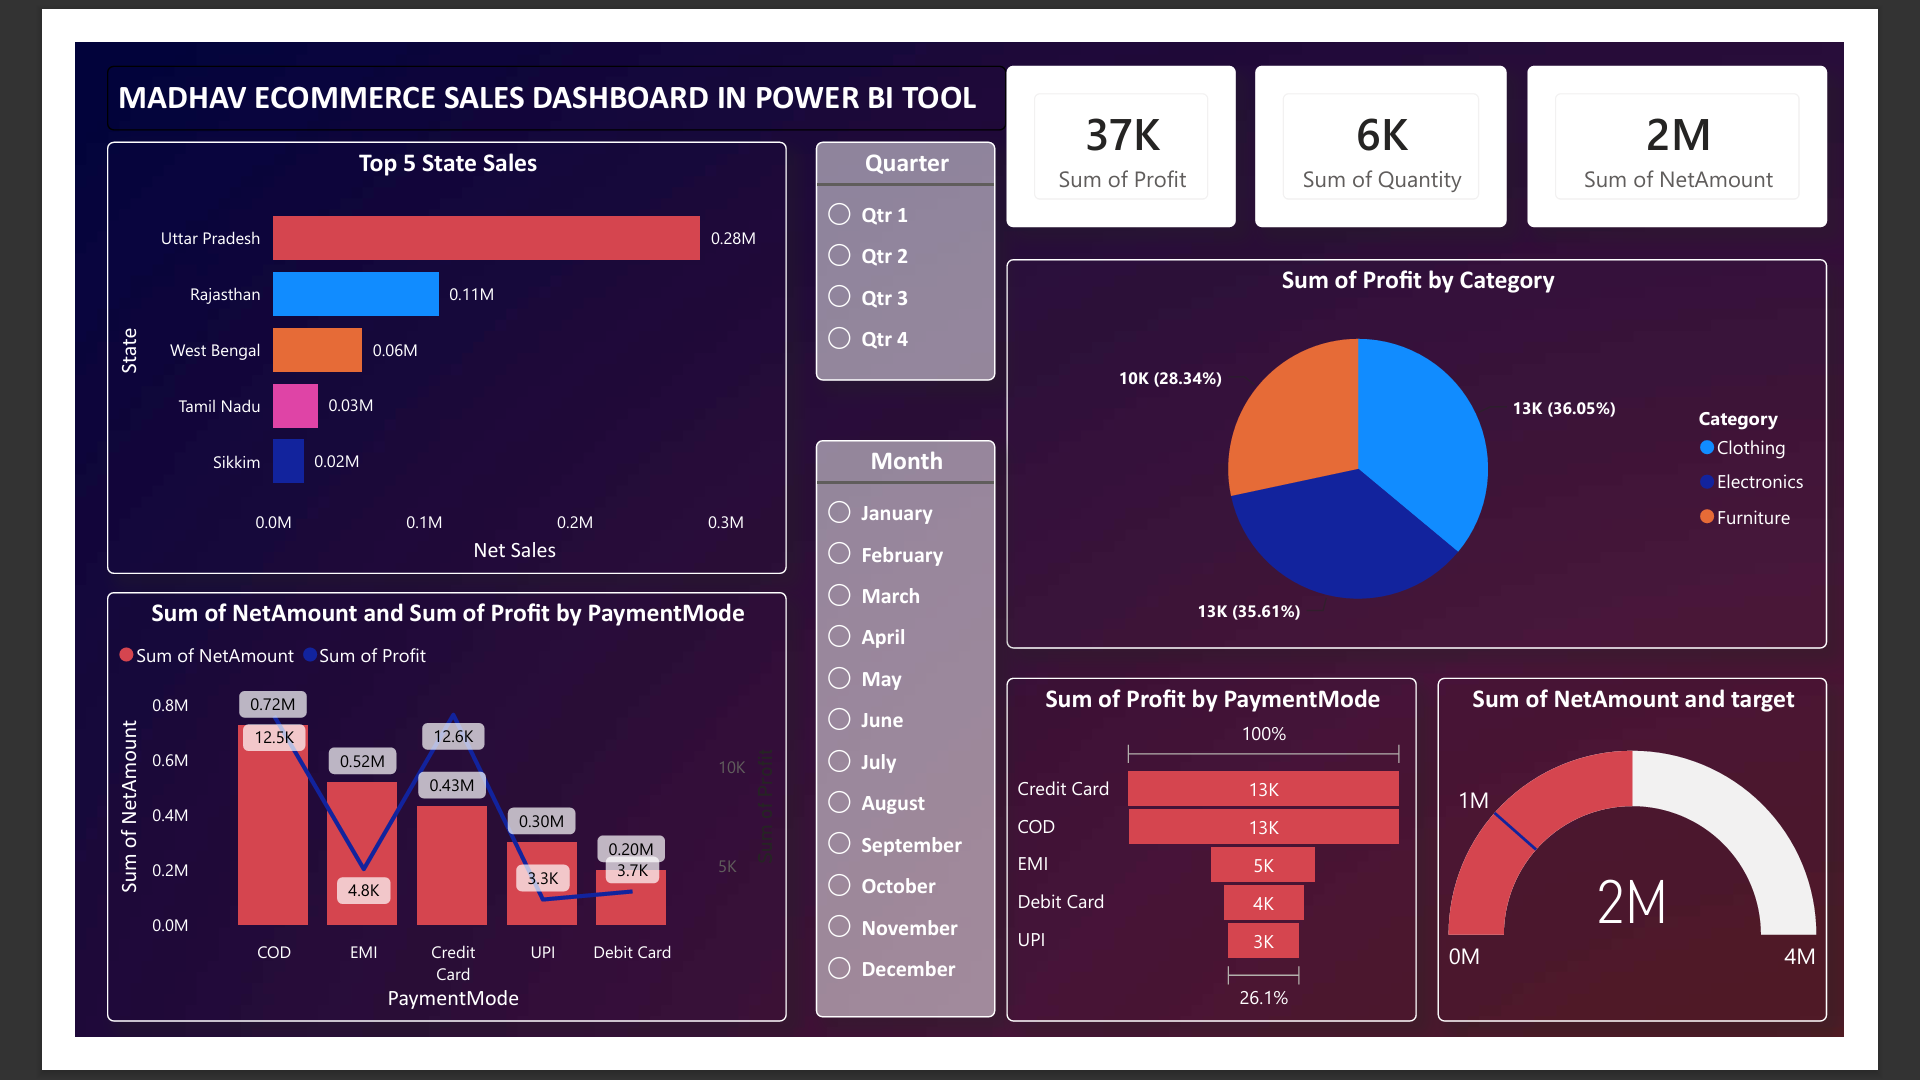

What the dashboard file says about the page in this screenshot:
{"tool":"powerbi","page":{"name":"Page 1","canvas":[1280,720],"ordinal":0},"visuals":[{"type":"barChart","title":"Top 5 State Sales","fields":{"Category":["Orders.State"],"Y":["Sum(Details.NetAmount)"]},"box":[22.9,72.4,492.2,312.5],"z":0},{"type":"textbox","box":[22.9,16.9,651.5,47.1],"z":1000},{"type":"lineStackedColumnComboChart","fields":{"Category":["Details.PaymentMode"],"Y":["Sum(Details.NetAmount)"],"Y2":["Sum(Details.Profit)"]},"box":[22.9,398.1,492.2,311.3],"z":2000},{"type":"listSlicer","fields":{"Values":["Orders.Order Date.Variation.Date Hierarchy.Quarter"]},"box":[527.6,63.5,130.2,172.5],"z":3000},{"type":"cardVisual","fields":{"Data":["Sum(Details.Profit)"]},"box":[674.4,16.9,165.3,117],"z":4000},{"type":"cardVisual","fields":{"Data":["Sum(Details.Quantity)"]},"box":[849.4,16.7,182.6,116.9],"z":5000},{"type":"cardVisual","fields":{"Data":["Sum(Details.NetAmount)"]},"box":[1050.8,16.9,217.2,117],"z":6000},{"type":"pieChart","fields":{"Category":["Details.Category"],"Y":["Sum(Details.Profit)"]},"box":[674.4,156.8,593.6,282.3],"z":7000},{"type":"gauge","fields":{"TargetValue":["select"],"Y":["Sum(Details.NetAmount)"]},"box":[985.7,459.7,282.3,249.7],"z":8000},{"type":"listSlicer","fields":{"Values":["Orders.Order Date.Variation.Date Hierarchy.Month"]},"box":[527.6,292.8,130.2,417.4],"z":9000},{"type":"funnel","fields":{"Category":["Details.PaymentMode"],"Y":["Sum(Details.Profit)"]},"box":[674.4,459.7,296.8,249.7],"z":10000}]}

Visuals, with their boxes in screenshot pixels (x1, y1, x2, y2), scaled from the page's 1280x720 canvas onto the 1920x1080 screenshot:
"Top 5 State Sales" barChart: {"left": 34, "top": 109, "right": 773, "bottom": 577}
textbox: {"left": 34, "top": 25, "right": 1012, "bottom": 96}
lineStackedColumnComboChart - Details.PaymentMode x Sum(Details.NetAmount): {"left": 34, "top": 597, "right": 773, "bottom": 1064}
listSlicer - Orders.Order Date.Variation.Date Hierarchy.Quarter: {"left": 791, "top": 95, "right": 987, "bottom": 354}
cardVisual - Sum(Details.Profit): {"left": 1012, "top": 25, "right": 1260, "bottom": 201}
cardVisual - Sum(Details.Quantity): {"left": 1274, "top": 25, "right": 1548, "bottom": 200}
cardVisual - Sum(Details.NetAmount): {"left": 1576, "top": 25, "right": 1902, "bottom": 201}
pieChart - Details.Category x Sum(Details.Profit): {"left": 1012, "top": 235, "right": 1902, "bottom": 659}
gauge - select x Sum(Details.NetAmount): {"left": 1479, "top": 690, "right": 1902, "bottom": 1064}
listSlicer - Orders.Order Date.Variation.Date Hierarchy.Month: {"left": 791, "top": 439, "right": 987, "bottom": 1065}
funnel - Details.PaymentMode x Sum(Details.Profit): {"left": 1012, "top": 690, "right": 1457, "bottom": 1064}
